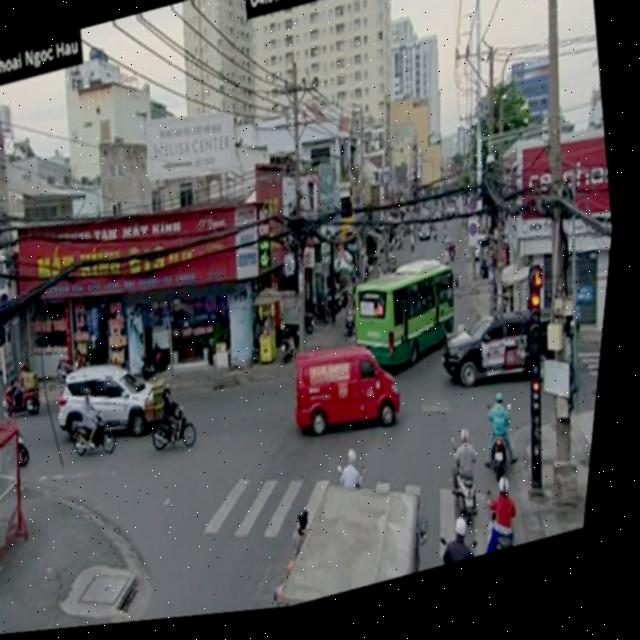Red: (536, 277, 550, 354), (537, 387, 554, 425)
